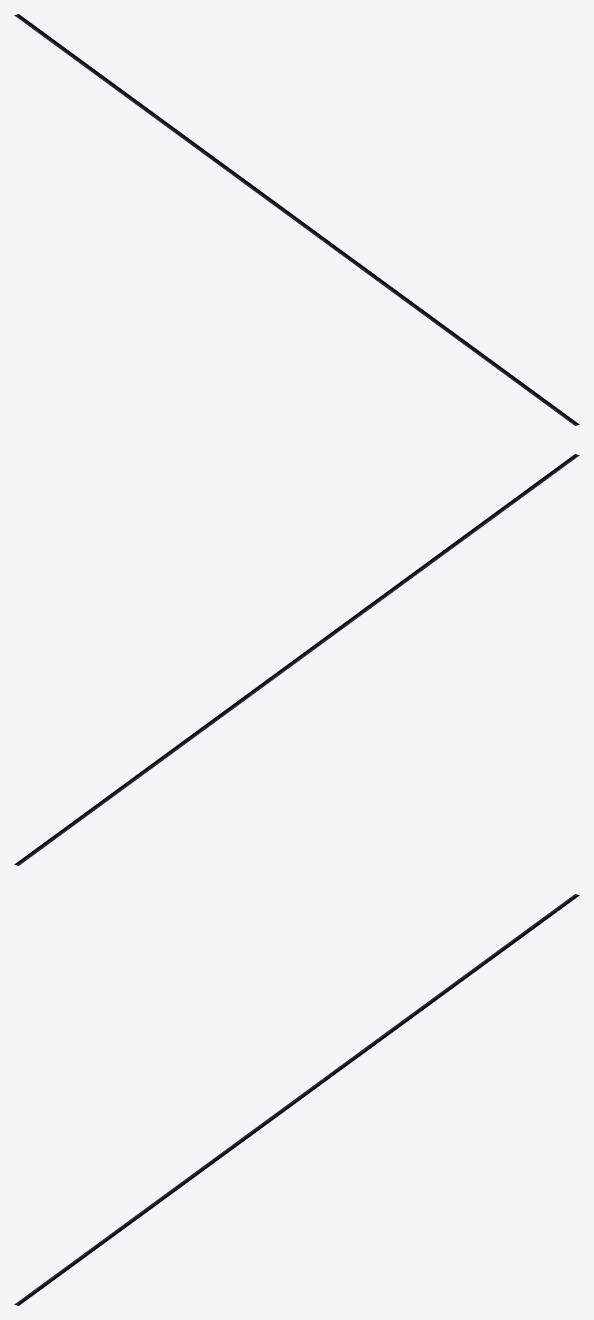
3 renders of one model, top to bottom at view 1: azimuth 30°, elevation 25°; view 2: azimuth 150°, elevation 25°; view 3: azimuth 330°, elevation 25°, orthographic.
Parts seen in each view (by area): view 1: Joint_0_Object_0; view 2: Joint_0_Object_0; view 3: Joint_0_Object_0.
Part boxes in pixels (x1,y1,x2,y2): Joint_0_Object_0: [14, 14, 579, 425]; Joint_0_Object_0: [14, 454, 579, 865]; Joint_0_Object_0: [14, 894, 579, 1305].
Bounding box in the file's own units: 50.8 × 3.81e-06 × 10000.
1 material, 1 textured.
